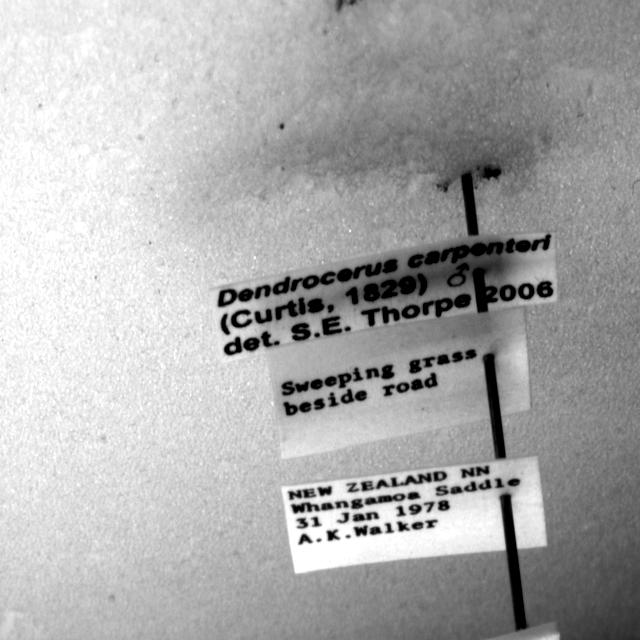typed_label: (211, 232, 558, 360), (269, 308, 530, 459), (281, 456, 548, 574)
